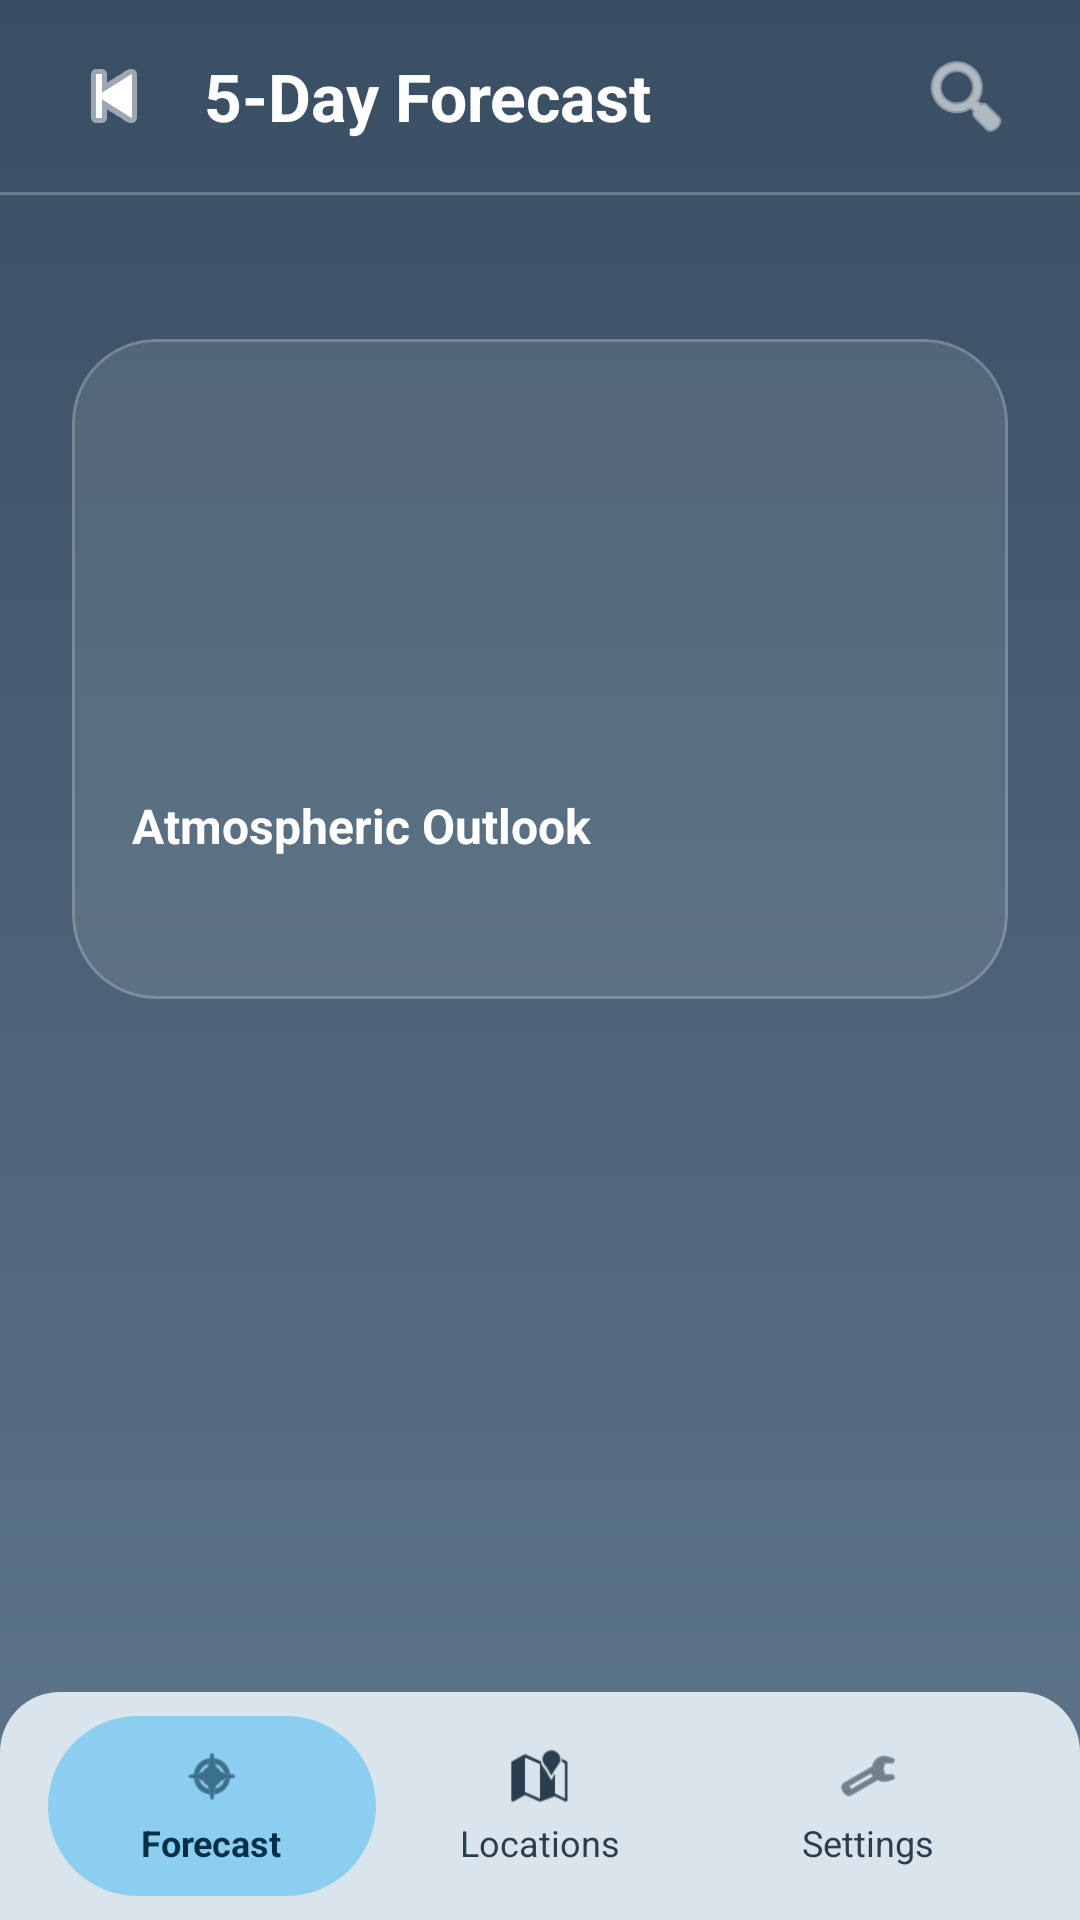

Named icons in this screenshot (1080×1920) and their centers, point (x, y):
Back: point (114, 96)
compass: point (211, 1776)
manage: point (868, 1776)
map: point (539, 1776)
Search city: point (966, 96)
